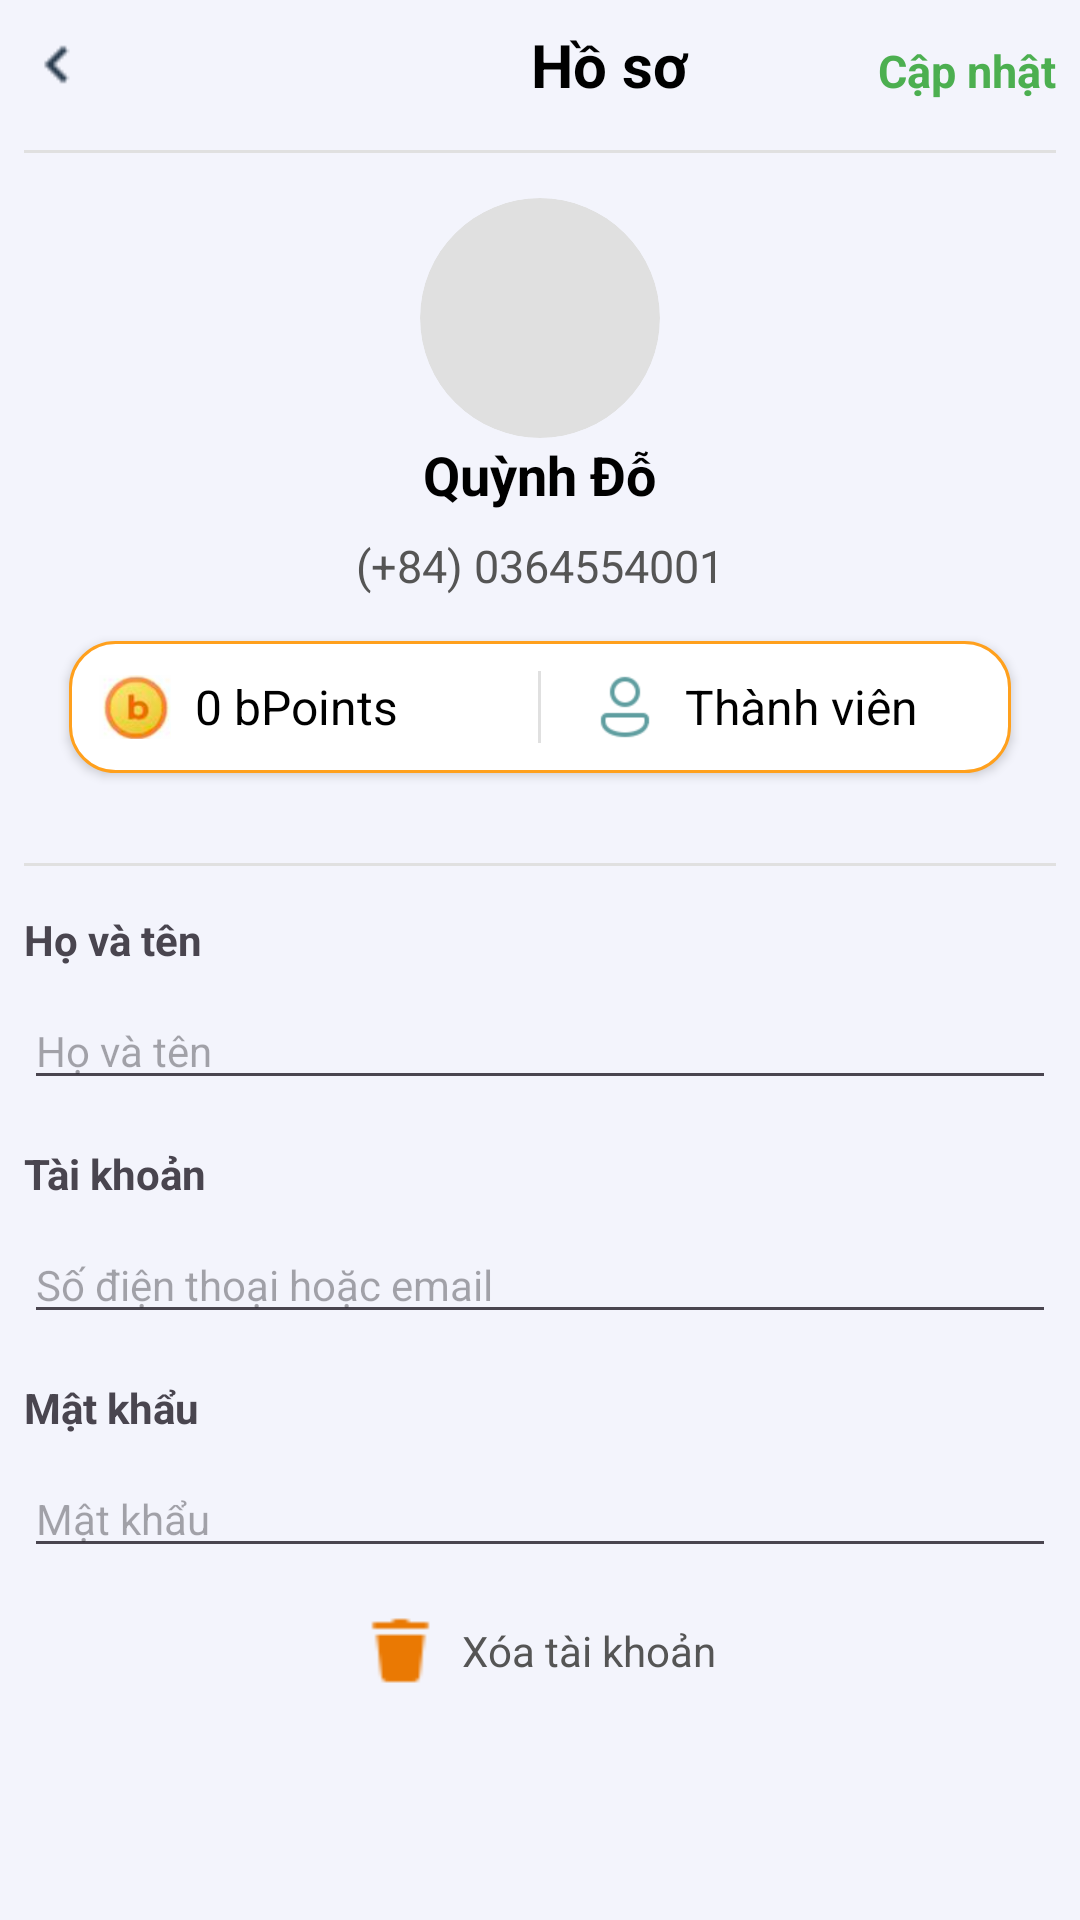

Screen size 1080x1920. Icon name, then its center in pixels as (x=x, y=y):
Back: (x=56, y=64)
coin: (x=136, y=707)
delete: (x=400, y=1650)
user: (x=625, y=707)
